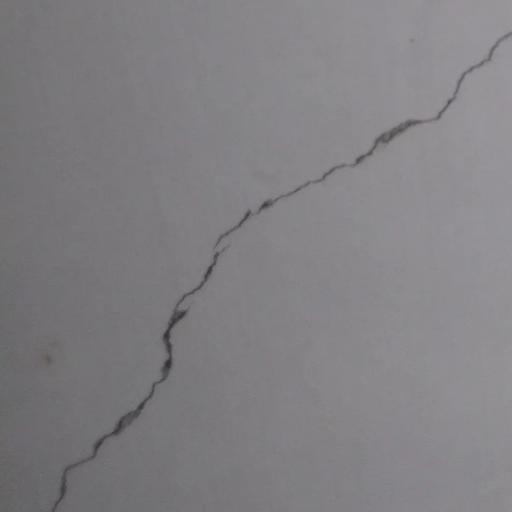major_crack: (48, 15, 512, 512)
